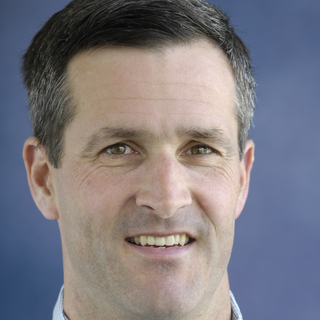eye: (86, 132, 155, 169), (173, 136, 226, 168)
